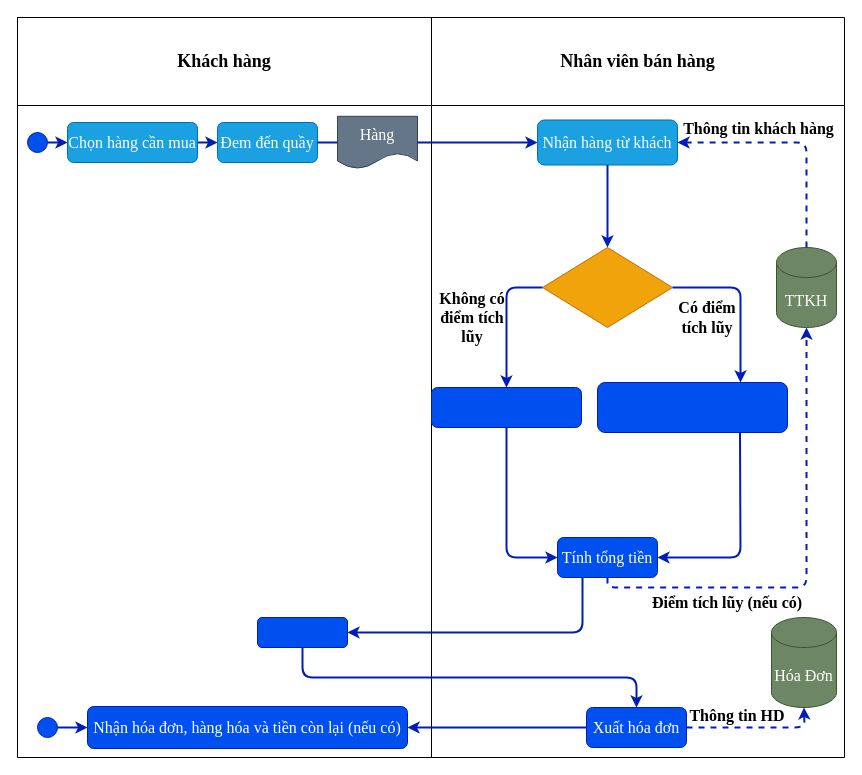
Some shapes in this 862 by 775 pixel diagram are drawn without their labels. The centre of each missing label's shape, as x and y in pixels:
"Kiểm tra TTKH" belongs at point (607, 287).
"Thanh toán" belongs at point (302, 632).
"Tính tiền bình thường" belongs at point (506, 407).
"Tính tiền theo điểm tích lũy" belongs at point (692, 407).
